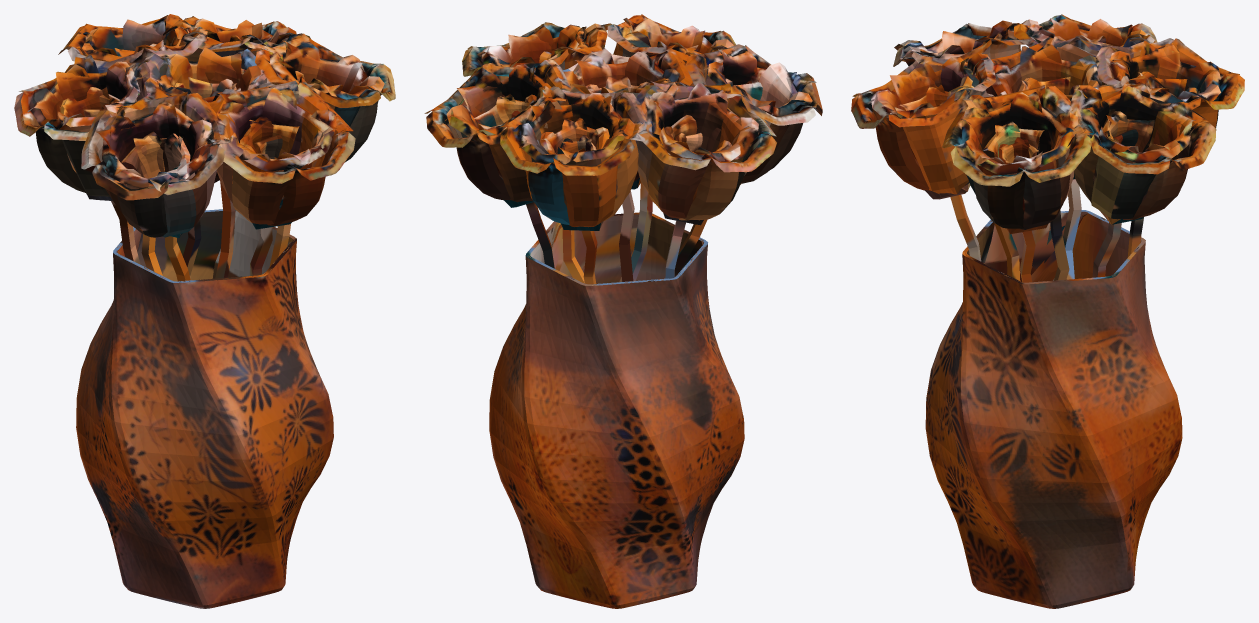
3 views of the same model, side by side, from view 1: azimuth 30°, elevation 25°; view 2: azimuth 150°, elevation 25°; view 3: azimuth 270°, elevation 25° (orthographic).
Visible parts, largest first — view 1: textured.obj; view 2: textured.obj; view 3: textured.obj.
Part boxes in pixels (<box>): textured.obj: <box>14,14,395,608</box>; textured.obj: <box>424,14,822,608</box>; textured.obj: <box>851,14,1244,608</box>.
Bounding box in the file's own units: 1.37 × 2 × 1.4.
